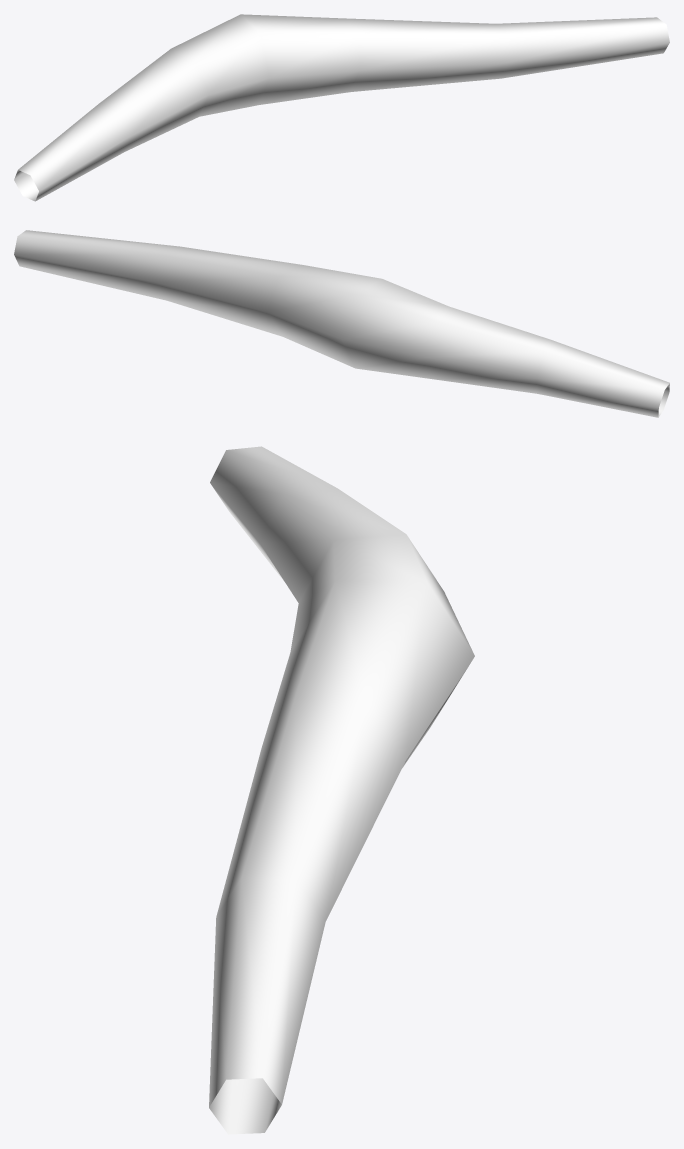
Rendered from SM_GroundRoot_Var2.fbx.
The picture shows the model from 3 angles, top to bottom: view 1: azimuth 30°, elevation 25°; view 2: azimuth 150°, elevation 25°; view 3: azimuth 270°, elevation 25°; orthographic projection. The views are drawn at different scales.
Visible parts, largest first — view 1: BezierCurve.045; view 2: BezierCurve.045; view 3: BezierCurve.045.
Boxes of the visible parts, x1,y1,x2,y2 form: BezierCurve.045: (14, 14, 669, 201); BezierCurve.045: (14, 230, 669, 417); BezierCurve.045: (209, 446, 474, 1134).
Bounding box in the file's own units: 298 × 41.67 × 53.66.
